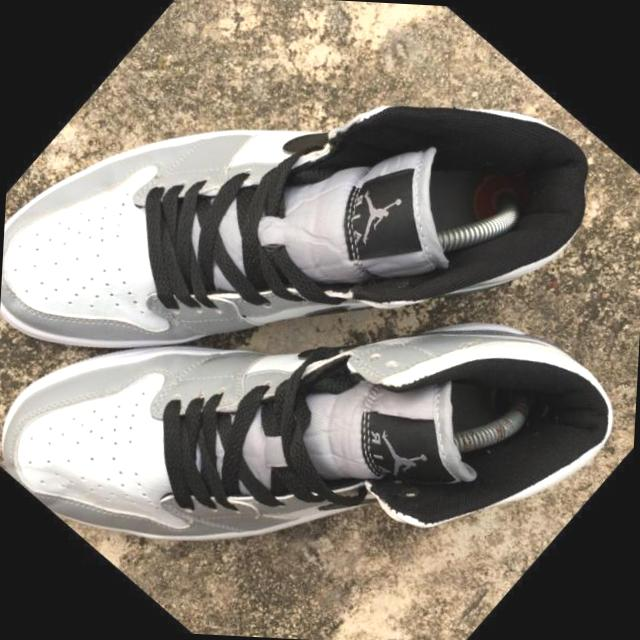nike_fake_jordan: (0, 73, 640, 640), (0, 0, 624, 577)
